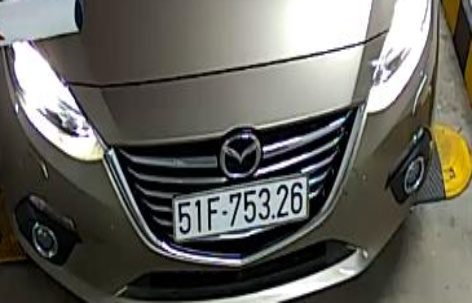plate: (166, 179, 317, 249)
